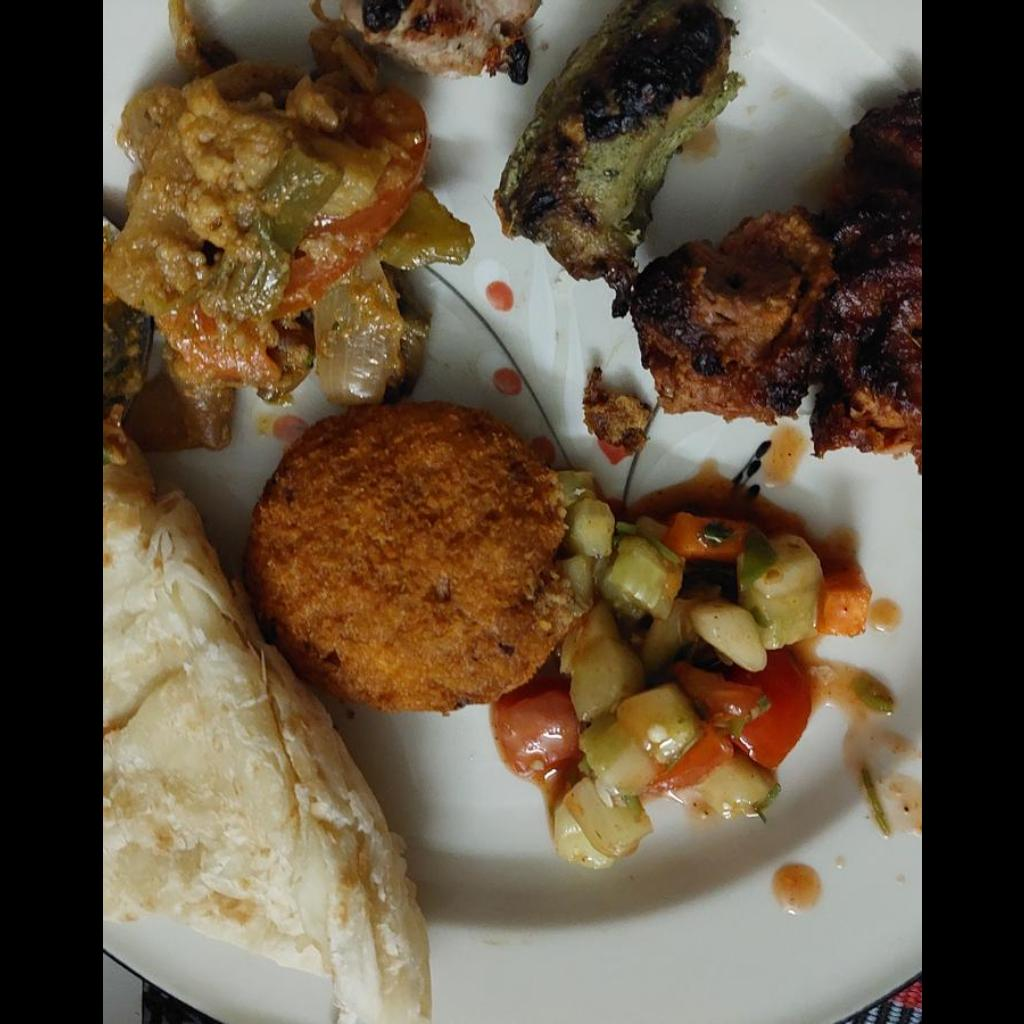beguni: (490, 6, 746, 276)
chicken: (614, 210, 920, 465), (339, 0, 539, 83)
piyaju: (246, 407, 568, 713)
ruti: (102, 414, 427, 1018)
salad: (488, 461, 877, 875)
vegetable: (103, 30, 474, 453)
